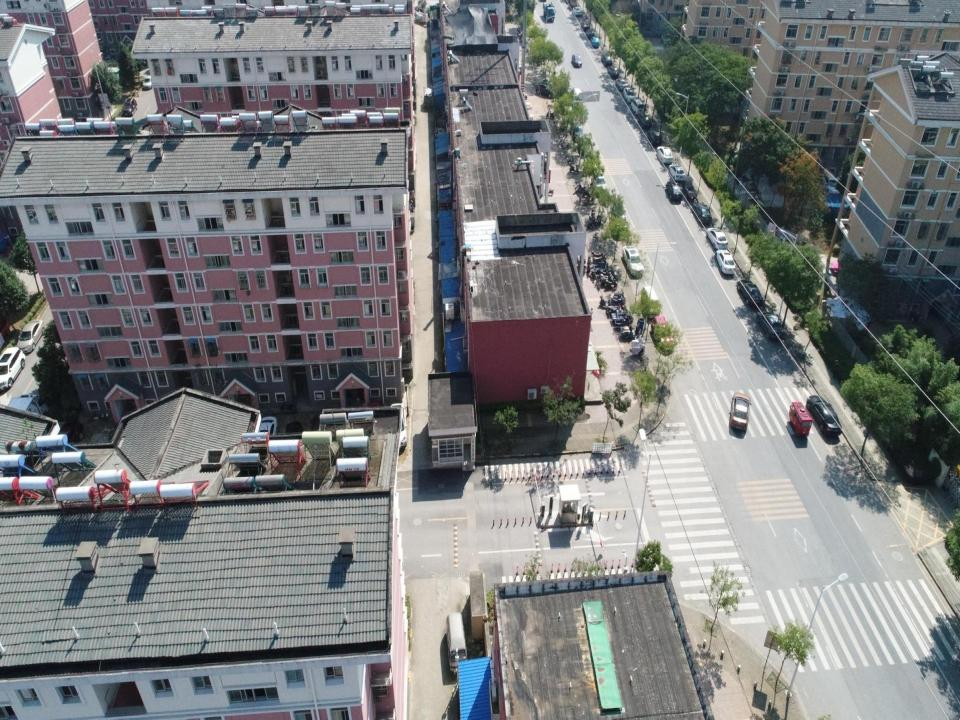car: (806, 395, 842, 435), (0, 345, 26, 393), (17, 318, 45, 355), (729, 391, 752, 432), (650, 315, 674, 354), (758, 307, 784, 339), (390, 403, 407, 448), (57, 419, 83, 448), (736, 279, 763, 306), (622, 245, 644, 277), (821, 167, 841, 195), (258, 415, 277, 444), (715, 249, 736, 275), (706, 228, 729, 251), (693, 202, 712, 226), (665, 181, 683, 203), (536, 79, 556, 98), (615, 209, 628, 238), (122, 94, 138, 116), (570, 118, 583, 144), (657, 145, 673, 164), (647, 128, 663, 146), (668, 164, 685, 180), (564, 88, 582, 102), (595, 171, 607, 192), (636, 113, 652, 128), (514, 54, 524, 75), (623, 87, 636, 102), (571, 53, 583, 69), (663, 31, 673, 48), (601, 52, 613, 66), (142, 74, 152, 90), (607, 66, 620, 78), (616, 78, 628, 90), (590, 35, 600, 48), (572, 6, 583, 16), (585, 28, 595, 38), (581, 20, 591, 29)
truck: (682, 174, 697, 200), (543, 2, 556, 24)
van: (446, 612, 468, 671), (642, 285, 660, 319), (630, 98, 646, 114)
